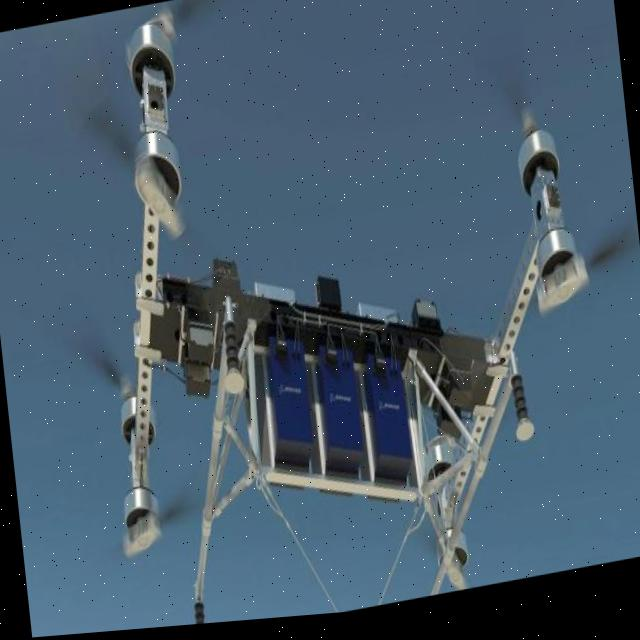drone: (17, 0, 640, 639)
